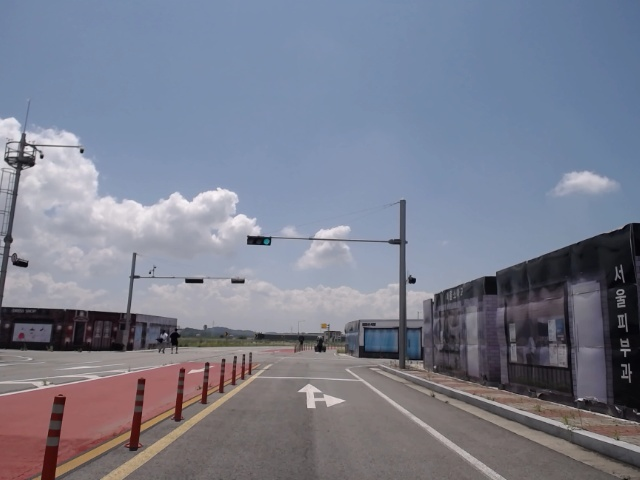green_3: (247, 237, 270, 245)
